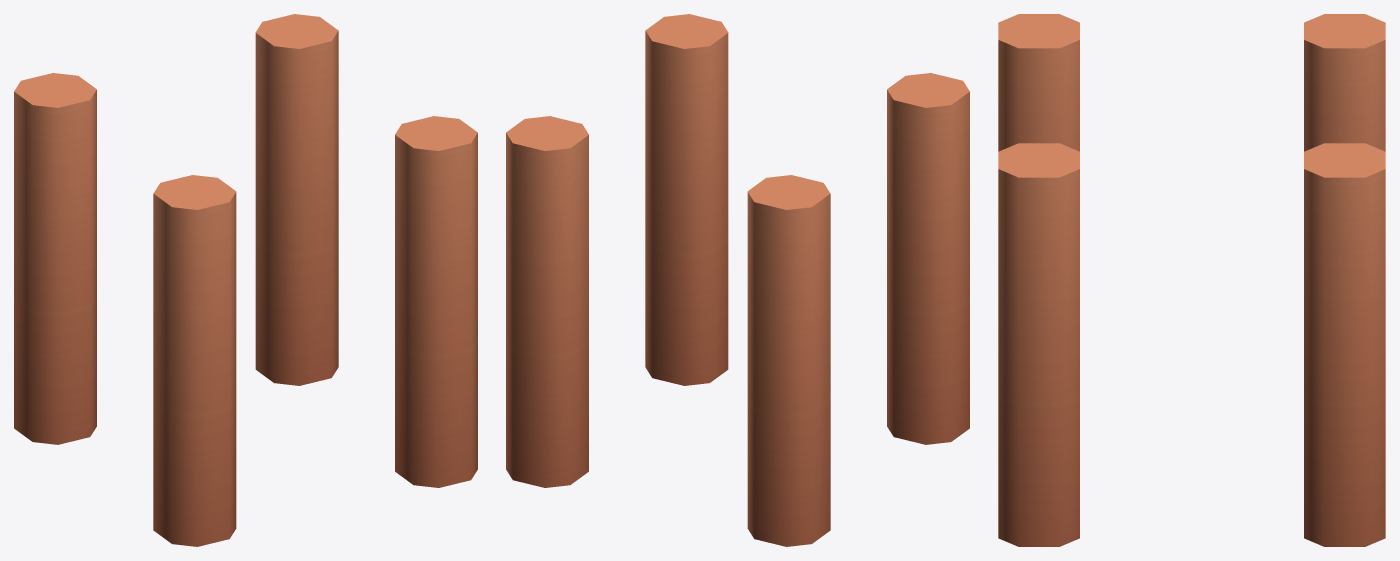
The model's file is supports.glb.
3 renders of one model, left to right at view 1: azimuth 30°, elevation 25°; view 2: azimuth 150°, elevation 25°; view 3: azimuth 270°, elevation 25°, orthographic. The views are drawn at different scales.
Visible parts, largest first — view 1: supports; view 2: supports; view 3: supports.
Boxes of the visible parts, bbox=[...] form: supports: bbox=[14, 14, 477, 546]; supports: bbox=[506, 14, 969, 546]; supports: bbox=[998, 14, 1385, 546].
Size of the model in its own units: 0.95 by 1 by 0.95.
Materials: 1 (1 with a texture image).
